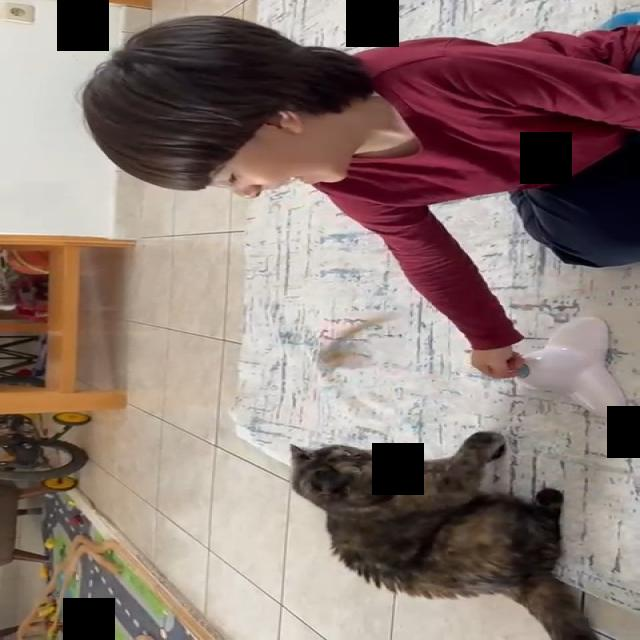authorized: (287, 430, 600, 639)
